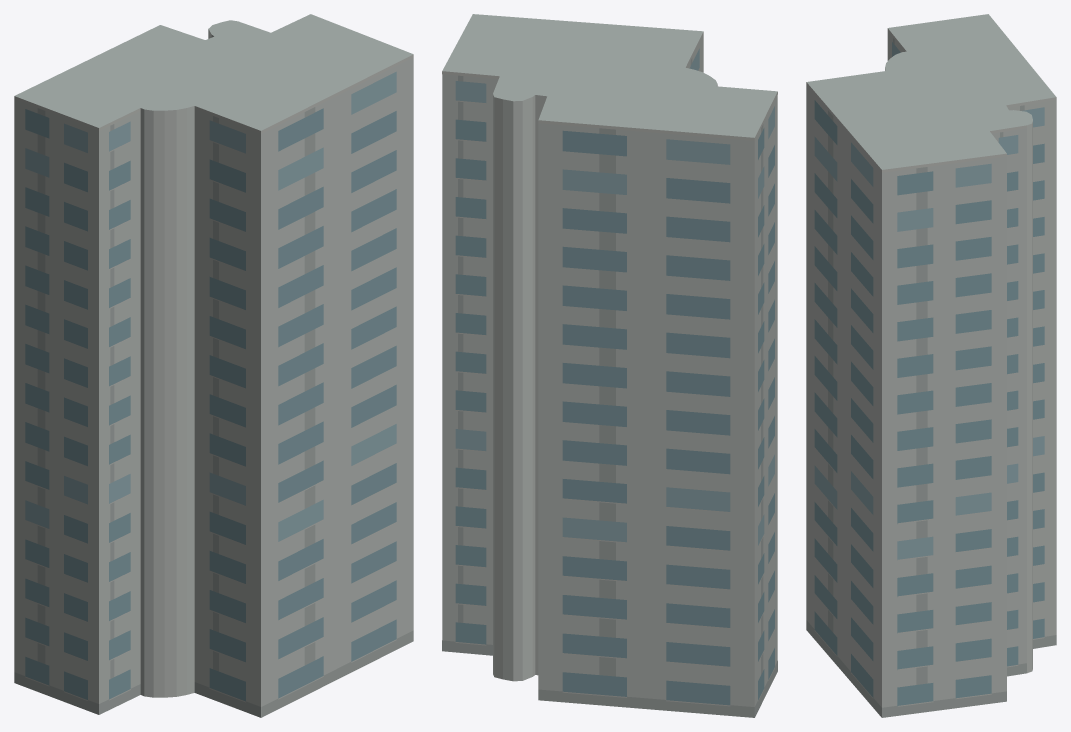
The model's file is survey-upis-32645531.glb.
3 views of the same model, side by side, from view 1: azimuth 30°, elevation 25°; view 2: azimuth 150°, elevation 25°; view 3: azimuth 270°, elevation 25° (orthographic). The views are drawn at different scales.
Visible parts, largest first — view 1: survey-upis-32645531.tmp; view 2: survey-upis-32645531.tmp; view 3: survey-upis-32645531.tmp.
Part boxes in pixels (<box>): survey-upis-32645531.tmp: <box>14,14,413,717</box>; survey-upis-32645531.tmp: <box>442,14,777,717</box>; survey-upis-32645531.tmp: <box>806,14,1056,717</box>.
Size of the model in its own units: 27.93 by 45.75 by 18.94.
